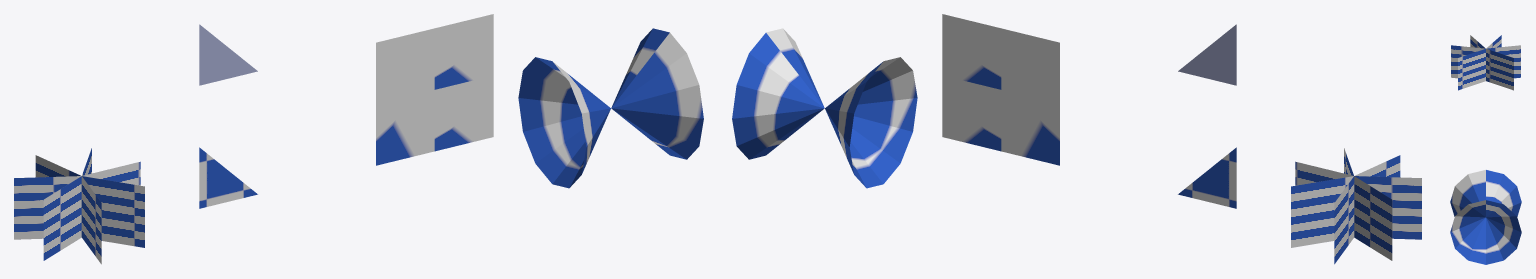
Rendered from nonmanifold.obj.
3 renders of one model, left to right at view 1: azimuth 30°, elevation 25°; view 2: azimuth 150°, elevation 25°; view 3: azimuth 270°, elevation 25°, orthographic. The views are drawn at different scales.
Bounding box in the file's own units: 10.9 × 4 × 2.
Materials: 1 (1 with a texture image).
